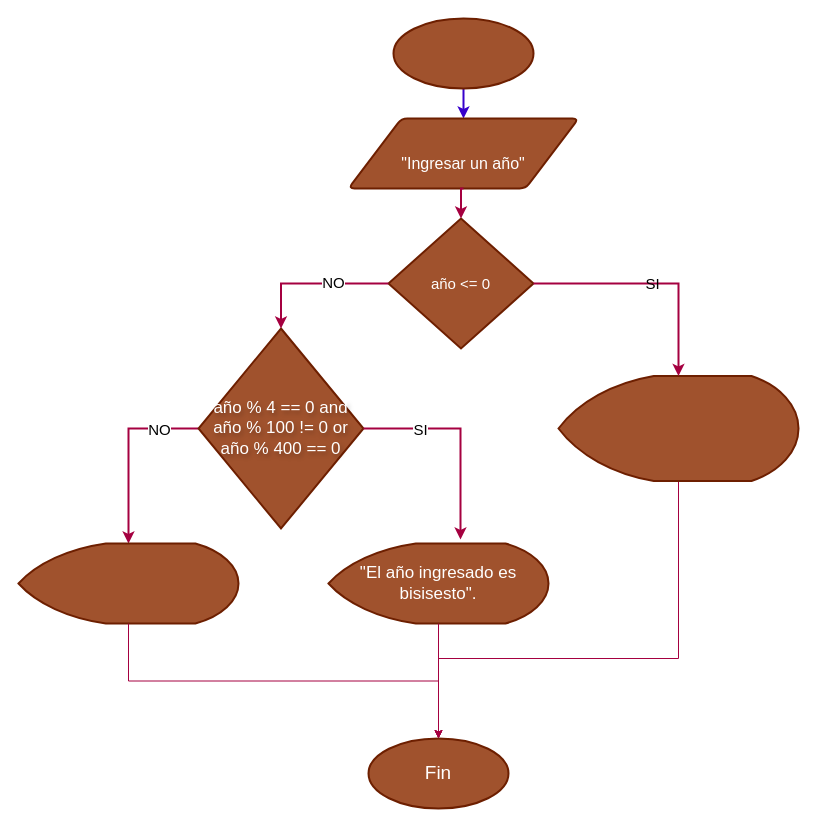
This 816x826 diagram has some shape labels left out. The shapes that lost their labels are listed below. From the top down, each one's centre as x and y in pixels, then its label:
point (463, 53): Inicio
point (678, 428): "El año no puede ser 0 o un número negativo".
point (128, 583): "El año ingresado no es bisiesto".
